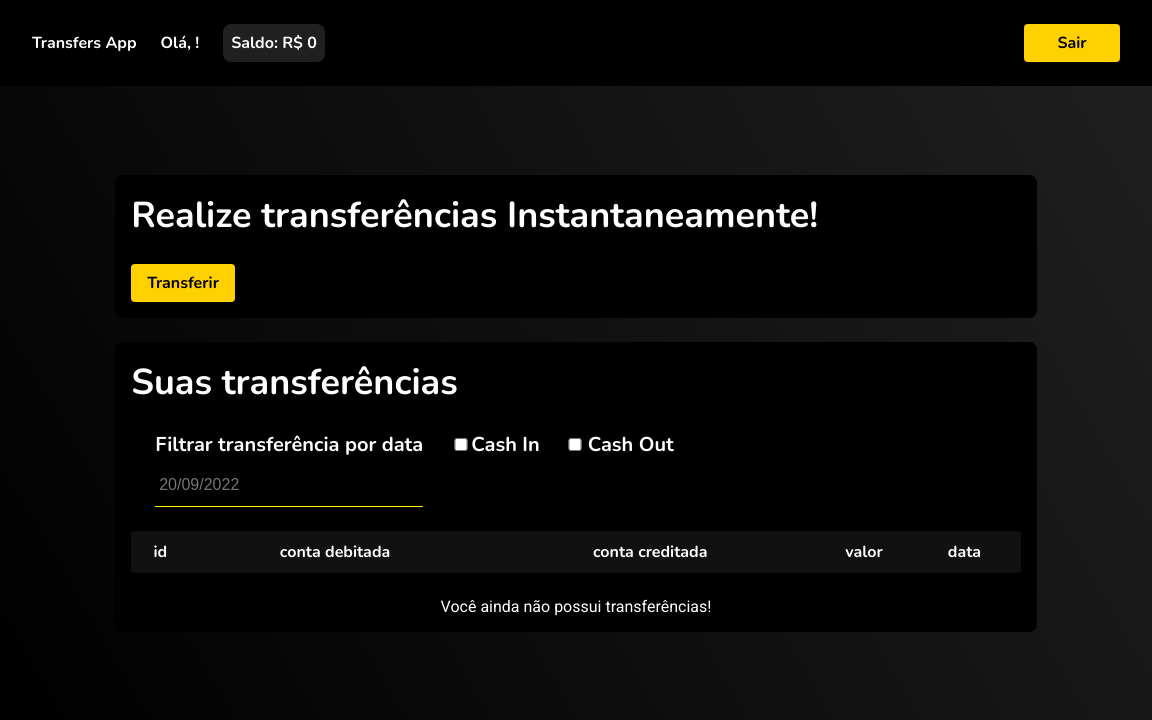
Test case: Home page › has a section with a transfer form, that is visible when clicking to make a new transfer
Click the button with test id "button-show-transfer-form".
click(183, 282)  # box [131, 264, 235, 302]
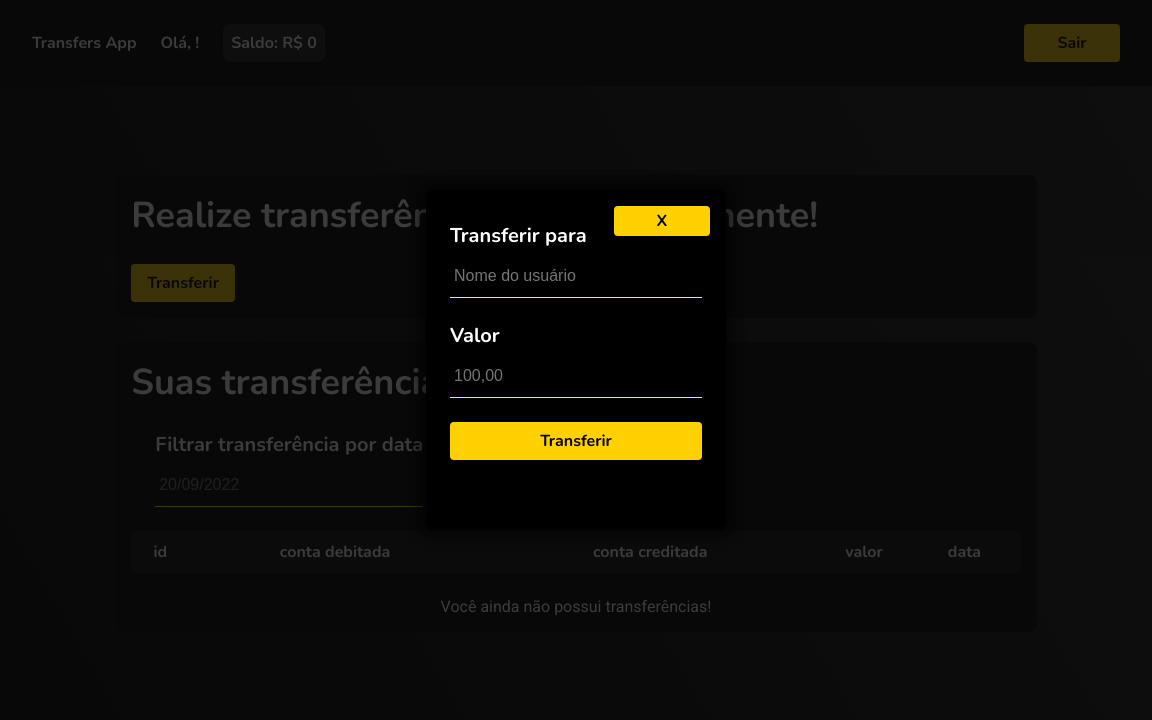
expect the form with test id "form-transfer" is shown: met, box [450, 222, 702, 460]
